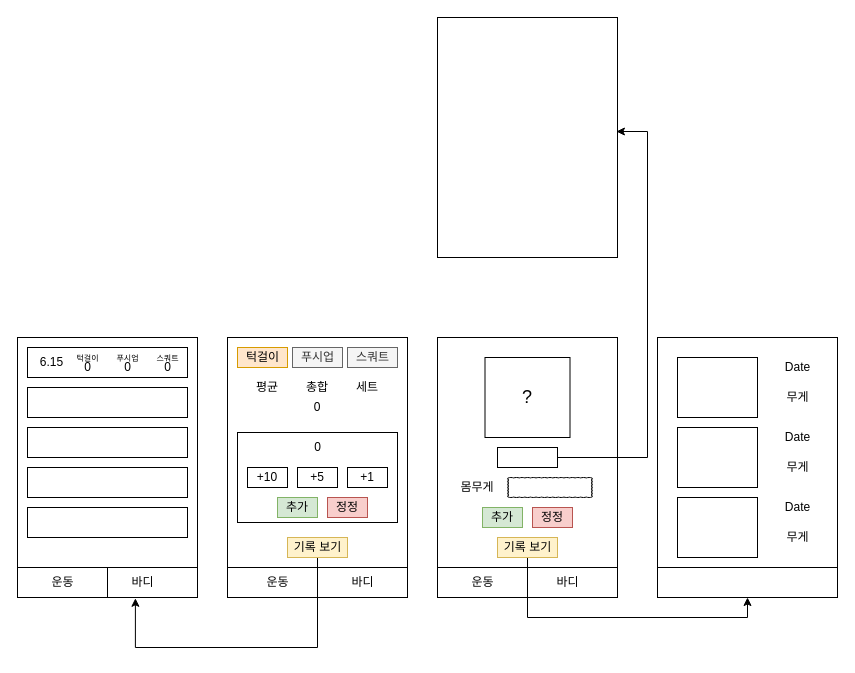
Image size: 855x673. Some labels were removed from this diagram. The shapes that lost their labels are listed below. From the top down, each one's box as (x1, y1, x2, y2) in pixels, then its label:
(496, 446, 558, 468): 사진 로드
(506, 476, 592, 498): ex) 50kg
